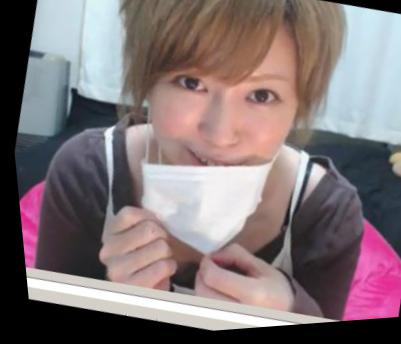WRONG: (116, 34, 313, 233)
